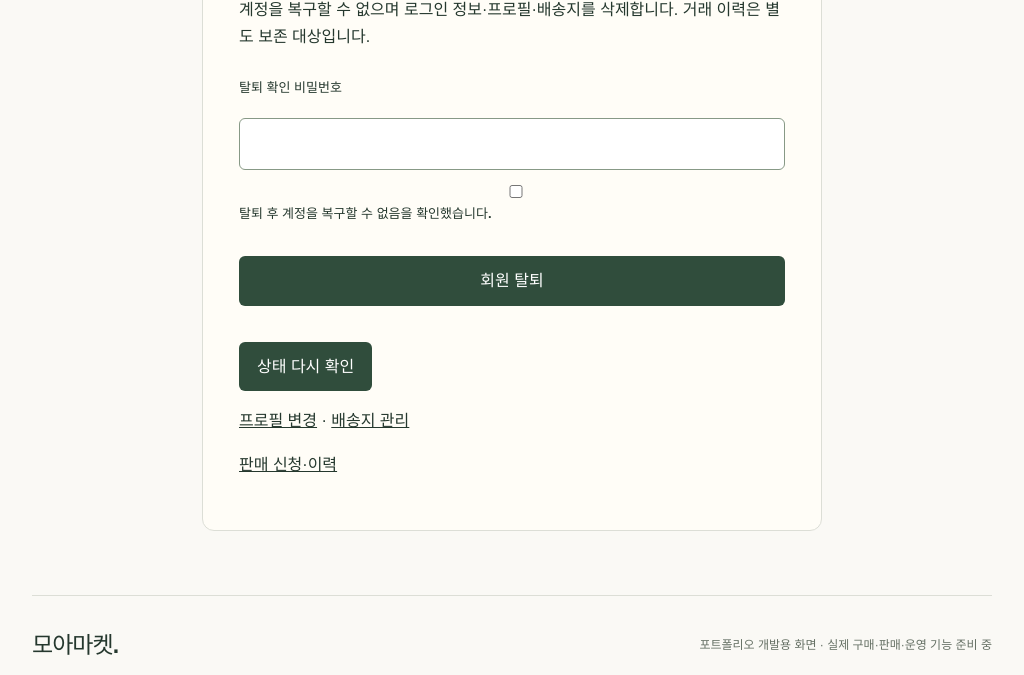
Test: 승인 전 회원의 모의 판매 신청은 CSRF와 함께 본인 신청 API로 전달된다
The width and height of the screenshot is (1024, 675).
(page scrolled)
Click the link "판매 신청·이력" at x=288, y=464, box [239,456,337,472]
(page scrolled)
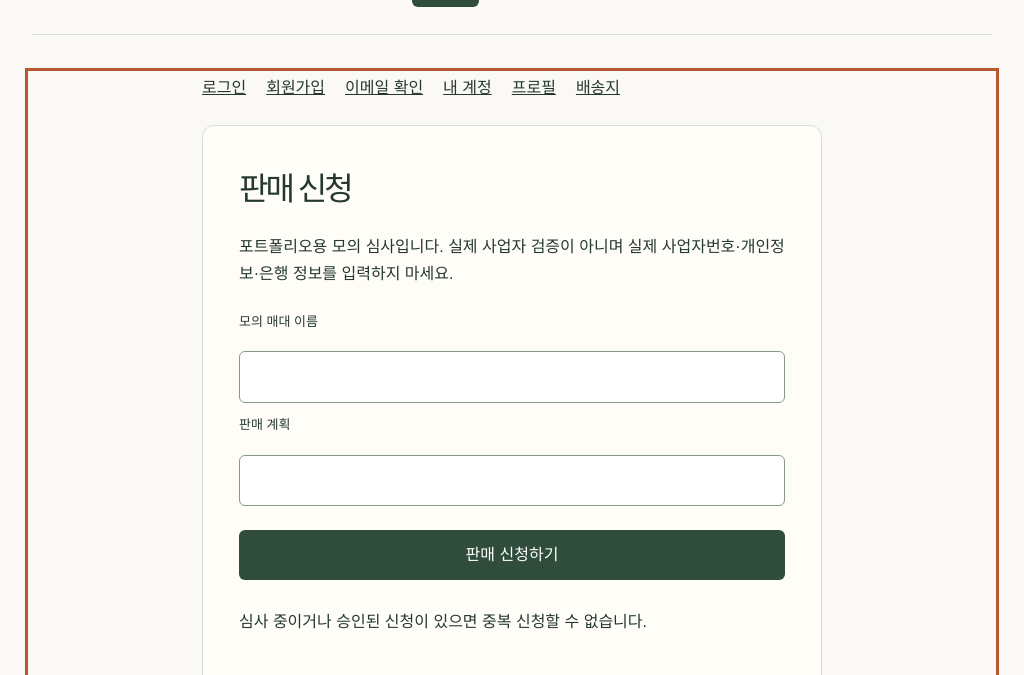
Type "가상 매대" into the field labelled "모의 매대 이름" at x=512, y=377, box [239,351,785,403]
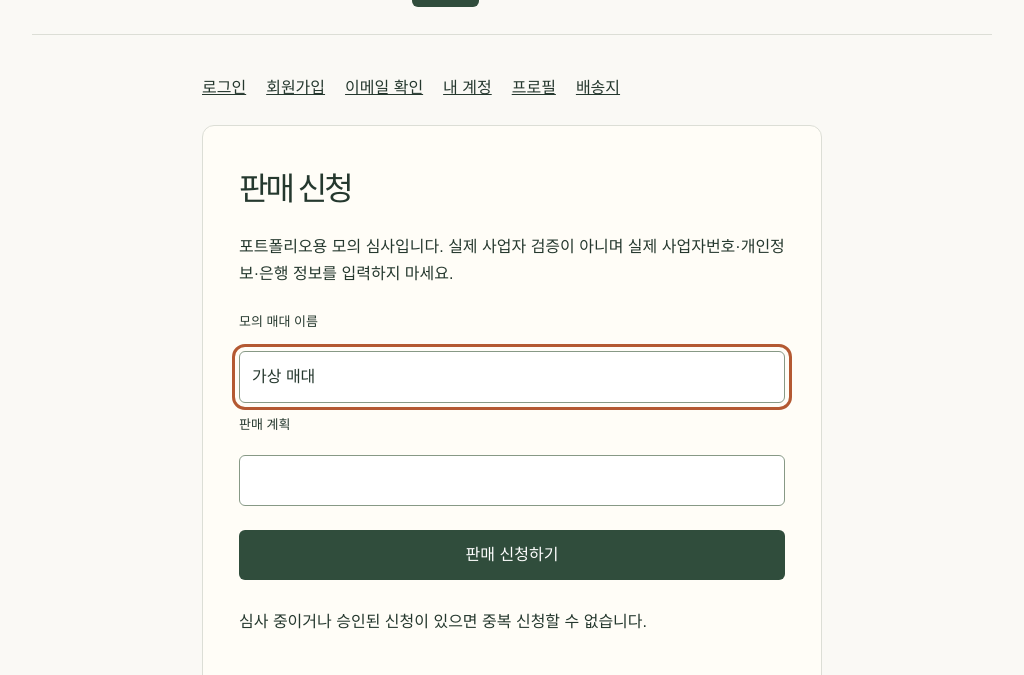
Type "가상 상품 판매" into the field labelled "판매 계획" at x=512, y=481, box [239,455,785,506]
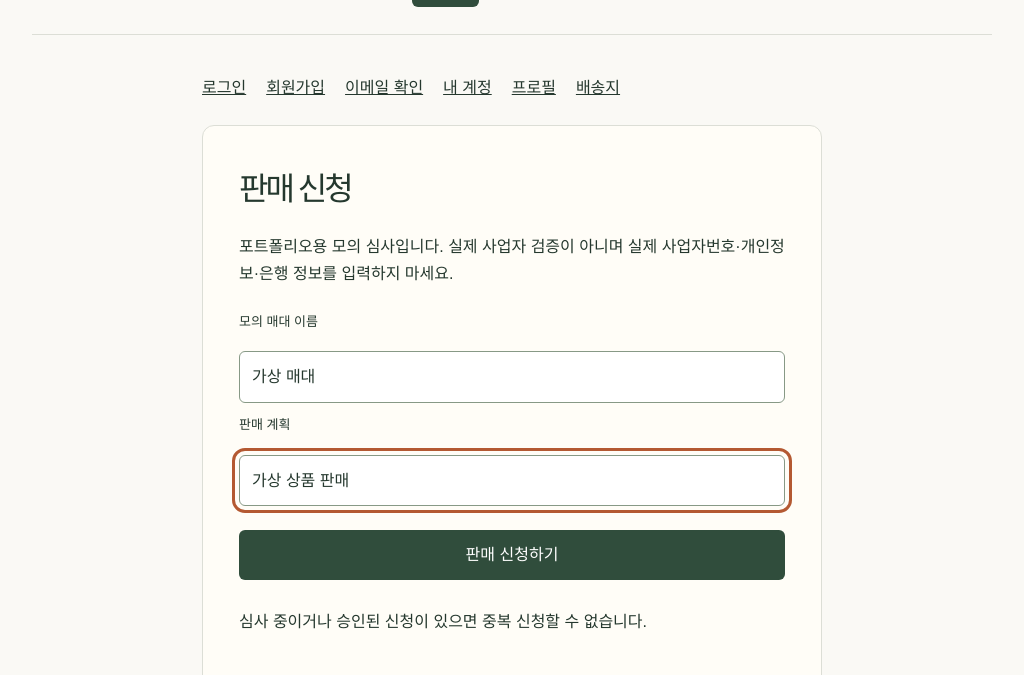
Click the button "판매 신청하기" at x=512, y=555, box [239,530,785,580]
(page scrolled)
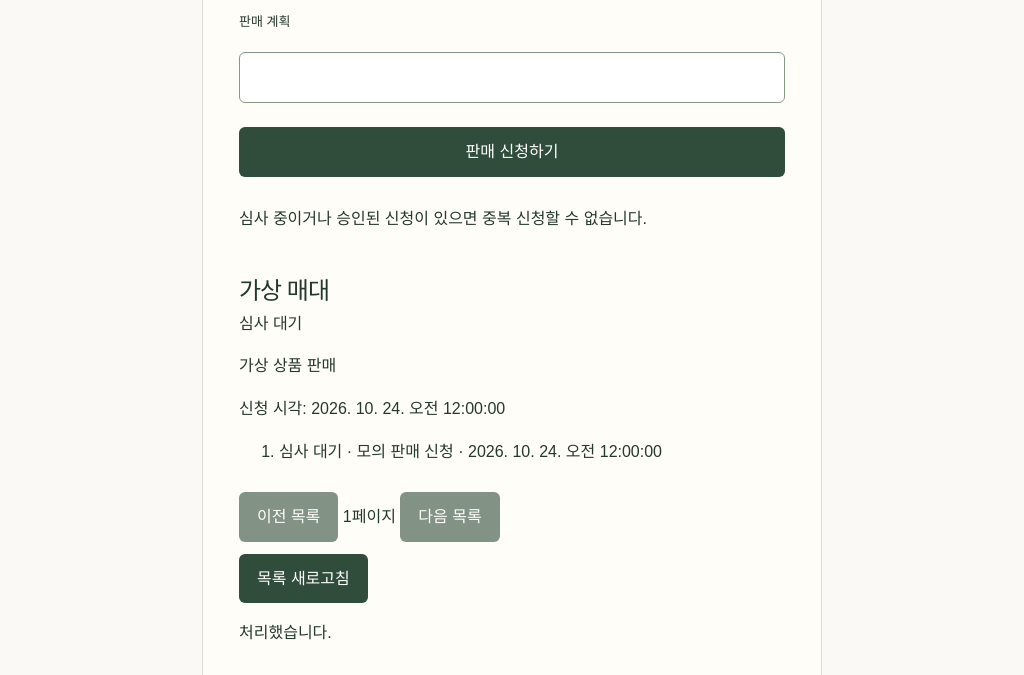
expect the text "처리했습니다." is shown: met, box [239,624,332,641]
expect the text "심사 대기" is shown: met, box [239,315,302,332]
